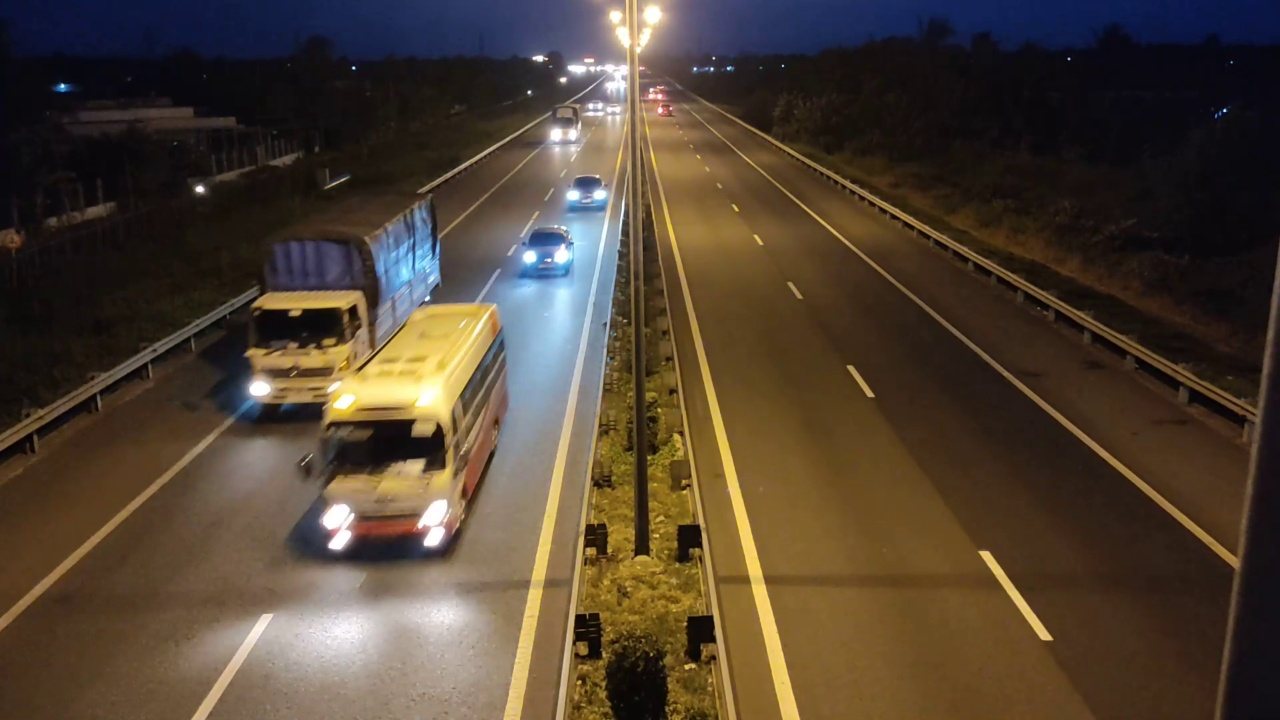bus: (291, 301, 511, 562)
car: (517, 225, 575, 278), (565, 174, 607, 209)
truck: (244, 191, 442, 419)
